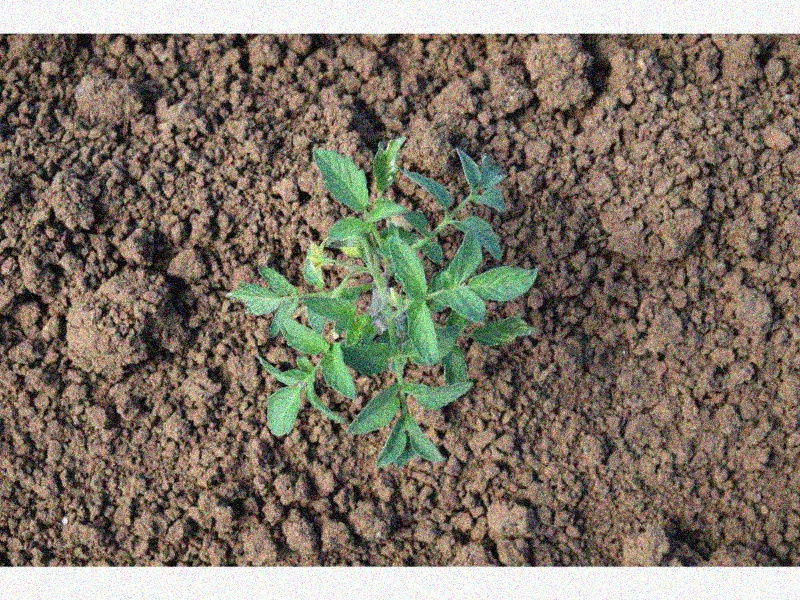tomato: (227, 132, 534, 466)
